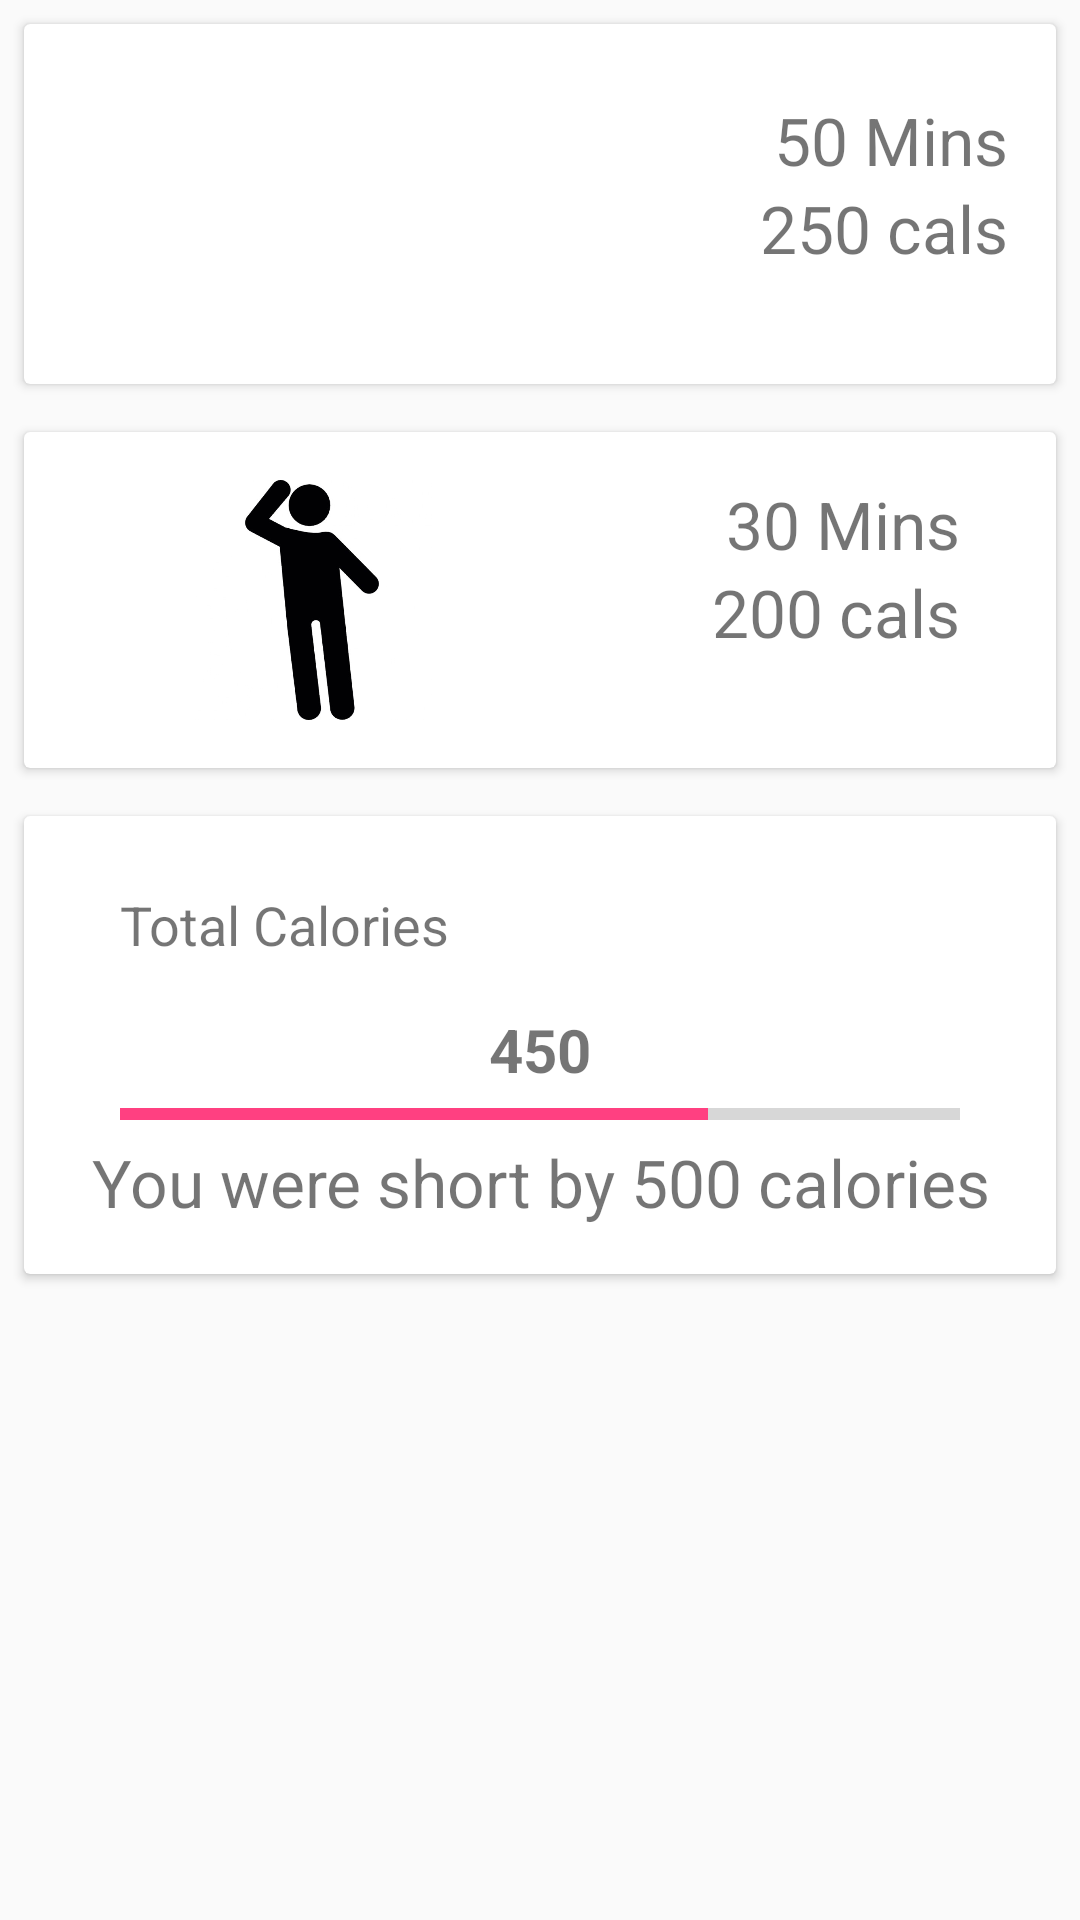

Icon bounding boxes for this 1080 × 1920 phone screenshot, format box=[x1, y1, x2, y2]:
workout: box=[245, 480, 379, 720]
